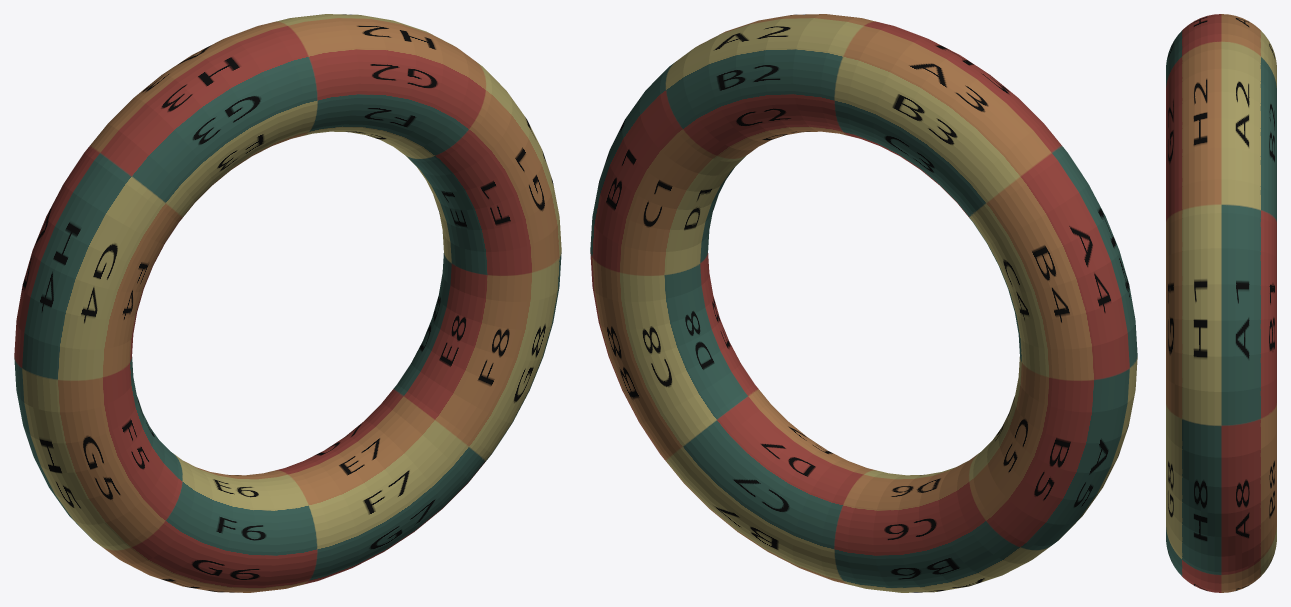
Rendered from texture_torus_R1_r2.glb.
3 views of the same model, side by side, from view 1: azimuth 30°, elevation 25°; view 2: azimuth 150°, elevation 25°; view 3: azimuth 270°, elevation 25° (orthographic). The views are drawn at different scales.
Parts seen in each view (by area): view 1: world; view 2: world; view 3: world.
Part boxes in pixels (x1,y1,x2,y2): world: [14, 14, 561, 592]; world: [590, 14, 1137, 592]; world: [1166, 14, 1276, 592].
Size of the model in its own units: 13.2 by 13.17 by 2.53.
Materials: 1 (1 with a texture image).
